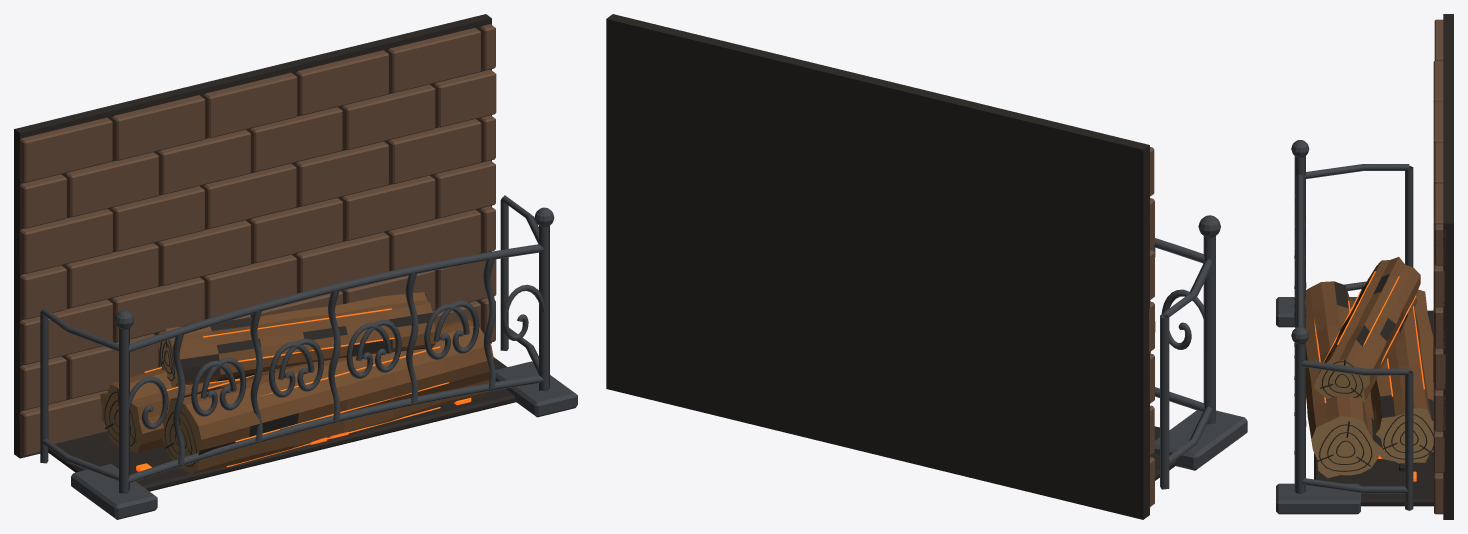
Rendered from hearth.glb.
3 views of the same model, side by side, from view 1: azimuth 30°, elevation 25°; view 2: azimuth 150°, elevation 25°; view 3: azimuth 270°, elevation 25° (orthographic). The views are drawn at different scales.
Parts seen in each view (by area): view 1: Bois braises briques et grille forge.001; view 2: Bois braises briques et grille forge.001; view 3: Bois braises briques et grille forge.001.
Boxes of the visible parts, <box> form: Bois braises briques et grille forge.001: <box>14,14,577,519</box>; Bois braises briques et grille forge.001: <box>606,14,1247,519</box>; Bois braises briques et grille forge.001: <box>1276,14,1453,519</box>.
Size of the model in its own units: 1.64 by 1.08 by 0.5875.
